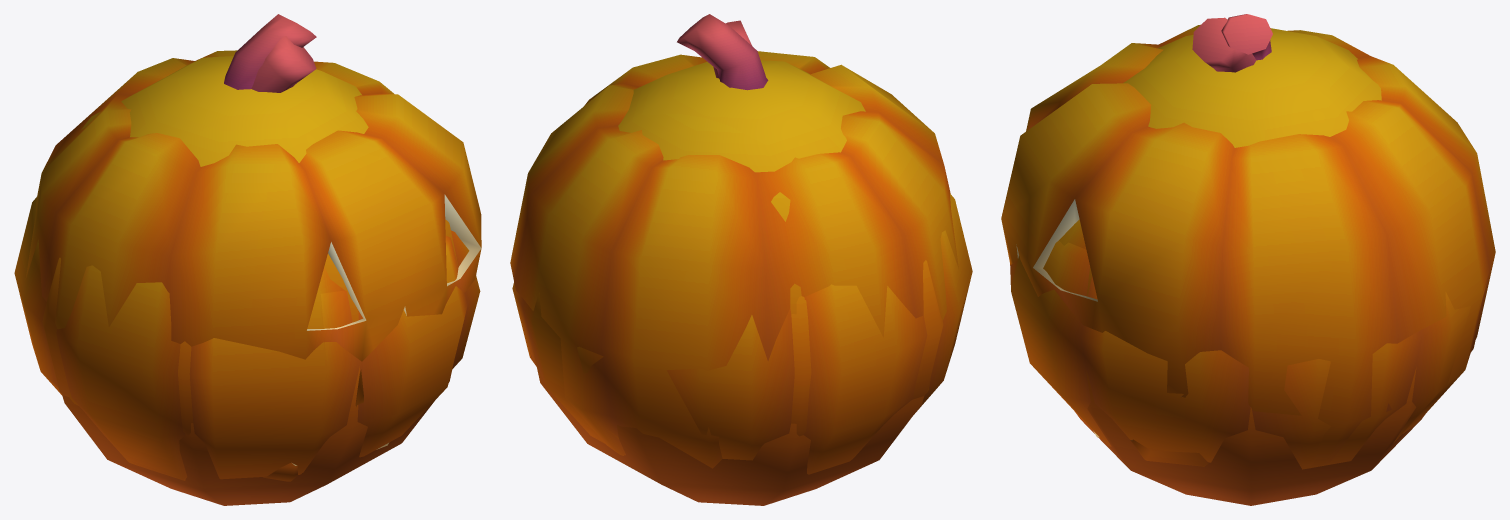
File: PumpkinSteps.fbx
3 renders of one model, left to right at view 1: azimuth 30°, elevation 25°; view 2: azimuth 150°, elevation 25°; view 3: azimuth 270°, elevation 25°, orthographic. The views are drawn at different scales.
Visible parts, largest first — view 1: Pumpkin5, Pumpkin3, Pumpkin1, Pumpkin4, Pumpkin2; view 2: Pumpkin5, Pumpkin1, Pumpkin3, Pumpkin2, Pumpkin4; view 3: Pumpkin5, Pumpkin4, Pumpkin1.
Boxes of the visible parts, x1,y1,x2,y2 form: Pumpkin5: (25,14,481,481); Pumpkin3: (14,197,395,480); Pumpkin1: (62,56,458,505); Pumpkin4: (184,36,480,479); Pumpkin2: (42,257,193,435); Pumpkin5: (510,14,958,468); Pumpkin1: (530,60,924,505); Pumpkin3: (667,193,972,474); Pumpkin2: (791,260,943,436); Pumpkin4: (512,20,751,443); Pumpkin5: (1001,14,1495,466); Pumpkin4: (1010,17,1487,469); Pumpkin1: (1074,28,1475,505).
Bounding box in the file's own units: 2.07 × 2.23 × 2.05.
